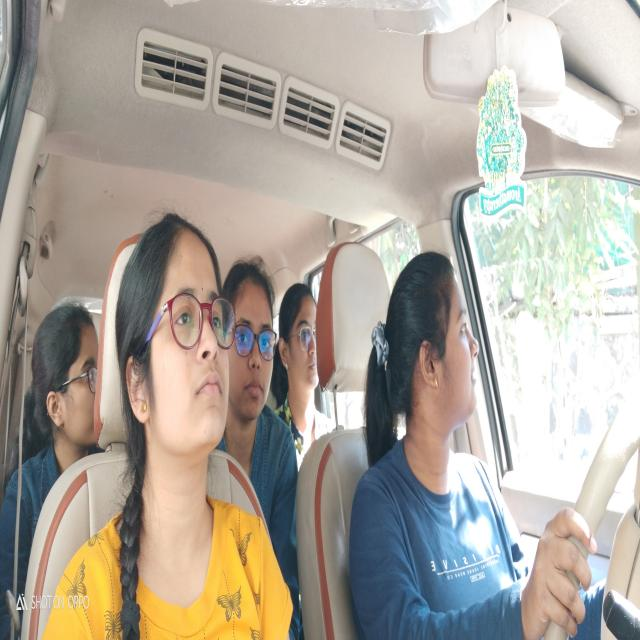LeftRight: (379, 249, 485, 442)
person: (118, 215, 228, 469), (30, 302, 102, 446), (228, 244, 274, 435), (280, 286, 322, 414)
